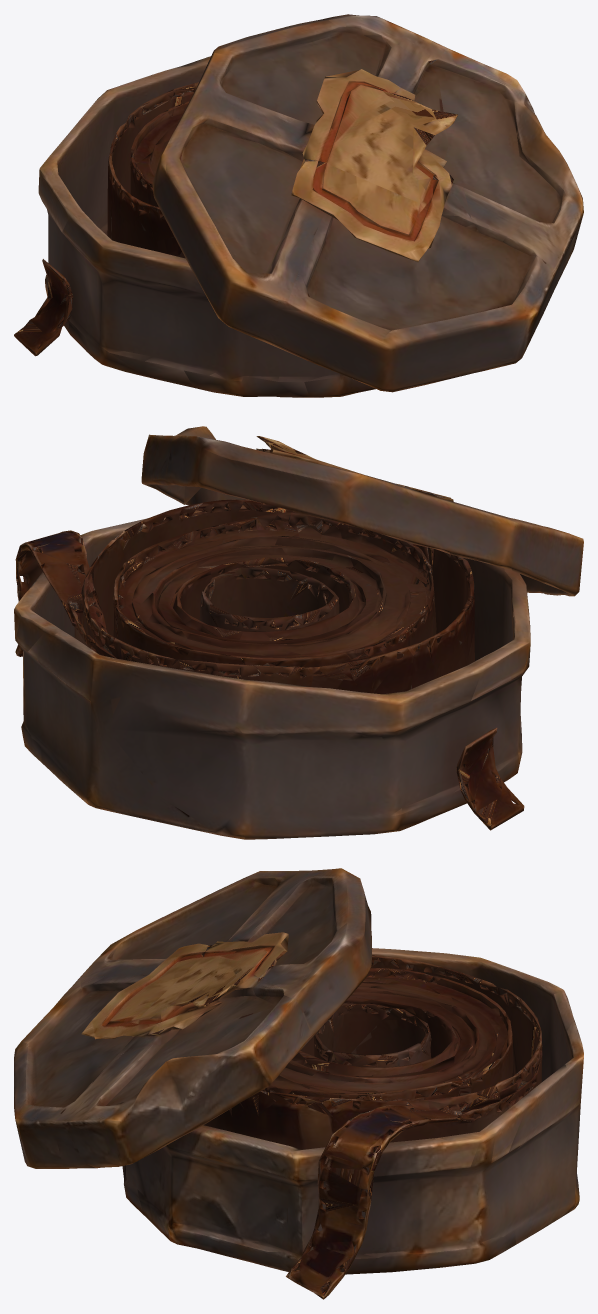
Rendered from film-canister-octagonal.glb.
3 views of the same model, one above another, from view 1: azimuth 30°, elevation 25°; view 2: azimuth 150°, elevation 25°; view 3: azimuth 270°, elevation 25° (orthographic). The views are drawn at different scales.
Visible parts, largest first — view 1: SM_FilmCanisterOctagonal; view 2: SM_FilmCanisterOctagonal; view 3: SM_FilmCanisterOctagonal.
Part boxes in pixels (bbox=[...]): SM_FilmCanisterOctagonal: bbox=[14, 14, 583, 397]; SM_FilmCanisterOctagonal: bbox=[14, 426, 583, 839]; SM_FilmCanisterOctagonal: bbox=[14, 868, 583, 1299].
Size of the model in its own units: 0.5 by 0.2574 by 0.4826.
Materials: 1 (1 with a texture image).
